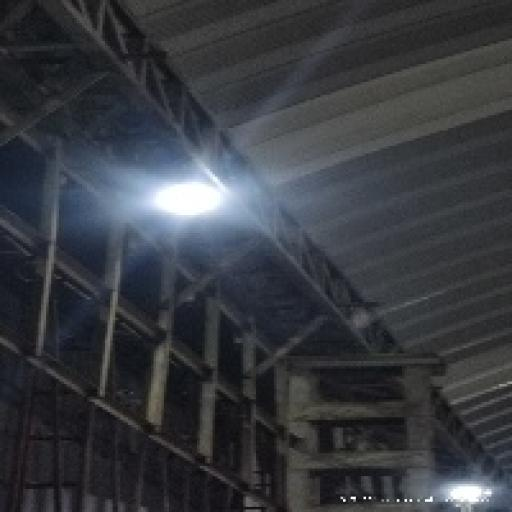Working: (140, 172, 235, 230), (435, 468, 495, 510)
